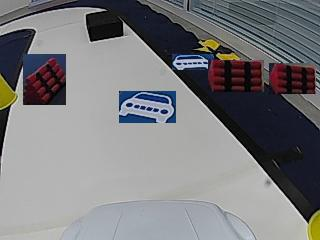block: (85, 10, 123, 41)
cone: (0, 72, 18, 109)
